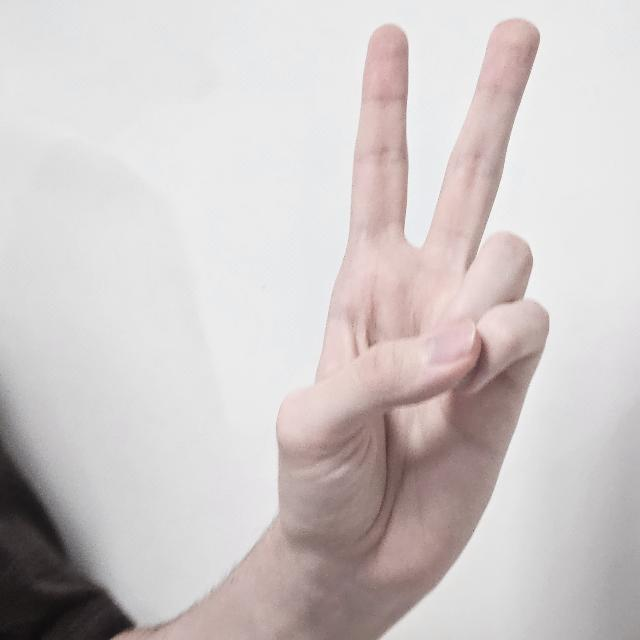Triangulo: (274, 21, 548, 603)
